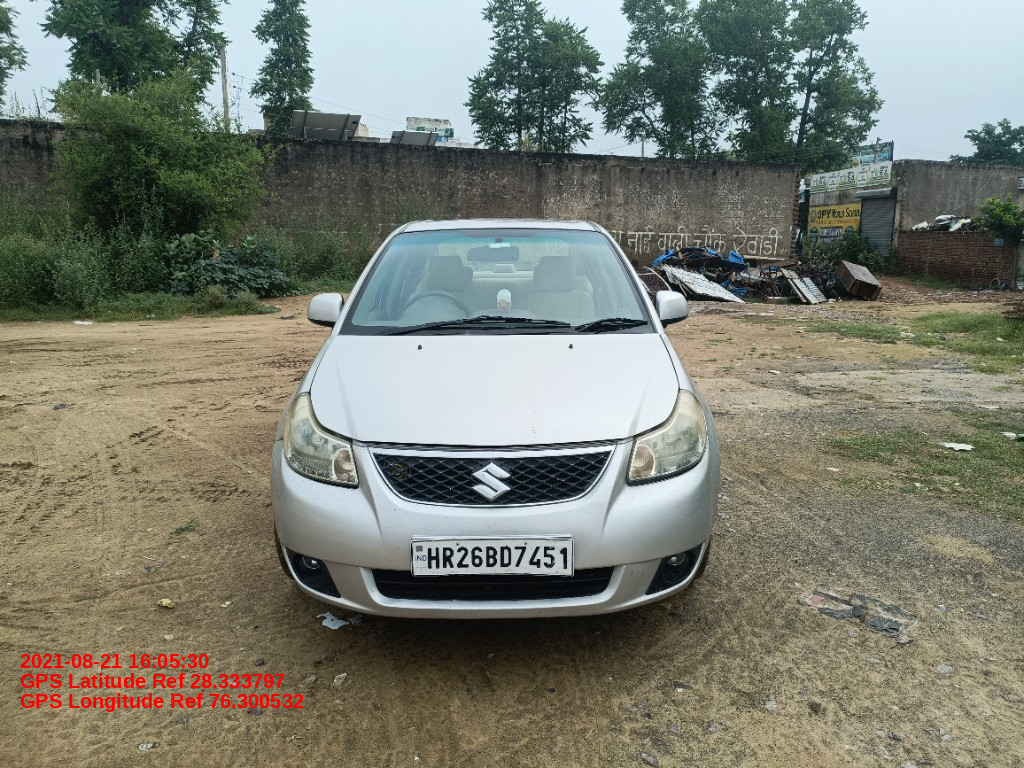Scratched: (381, 509, 502, 533), (533, 603, 597, 617), (274, 485, 284, 541), (627, 563, 652, 581), (528, 404, 540, 437), (385, 544, 403, 565), (367, 586, 385, 602)
